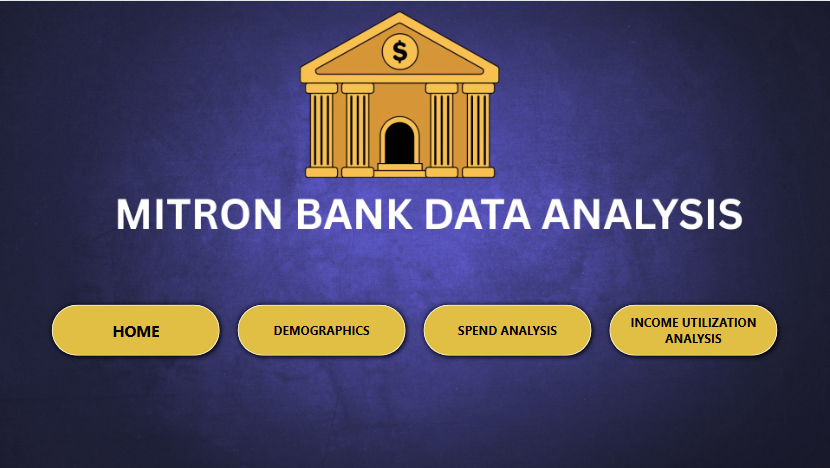

The page's visual inventory and layout, read from the dashboard file:
{"tool":"powerbi","page":{"name":"HOME","canvas":[1280,720],"ordinal":0},"visuals":[{"type":"pageNavigator","box":[72.3,459.2,1136.7,96.4],"z":0}]}

Visuals, with their boxes in screenshot pixels (x1, y1, x2, y2), scaled from the page's 1280x720 canvas onto the 830x468 screenshot:
pageNavigator: <bbox>47, 298, 784, 361</bbox>
